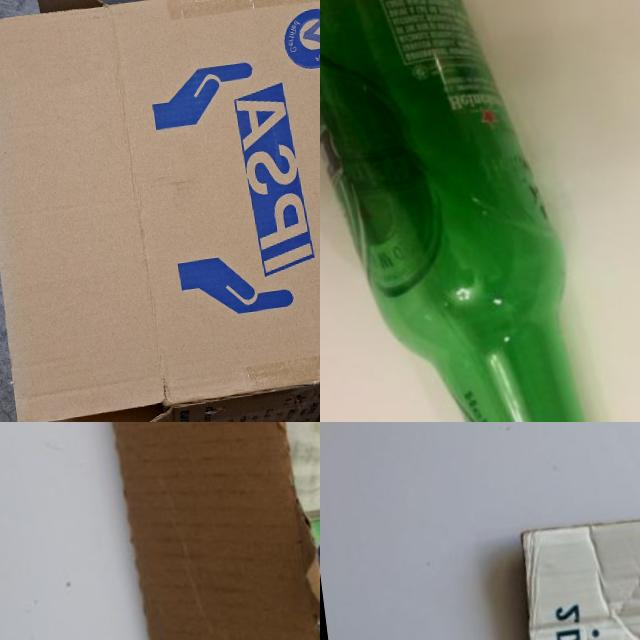garrafa de vidro: (320, 0, 592, 422)
papelão: (0, 0, 320, 422), (50, 422, 320, 640), (508, 491, 640, 640)
